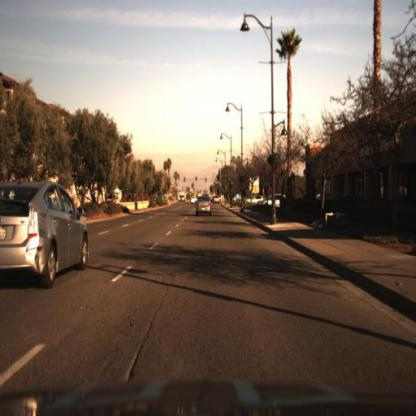car: (1, 176, 95, 292), (260, 187, 291, 215), (194, 192, 216, 217)
